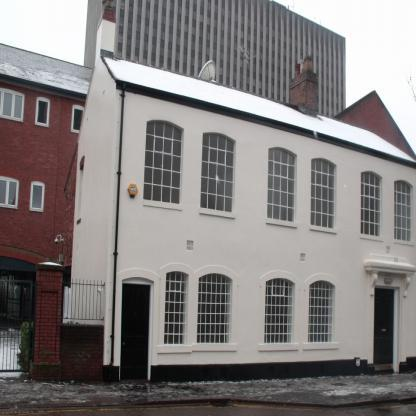door: (121, 284, 150, 384), (374, 288, 394, 374)
knob: (382, 328, 384, 333), (384, 328, 386, 332)
